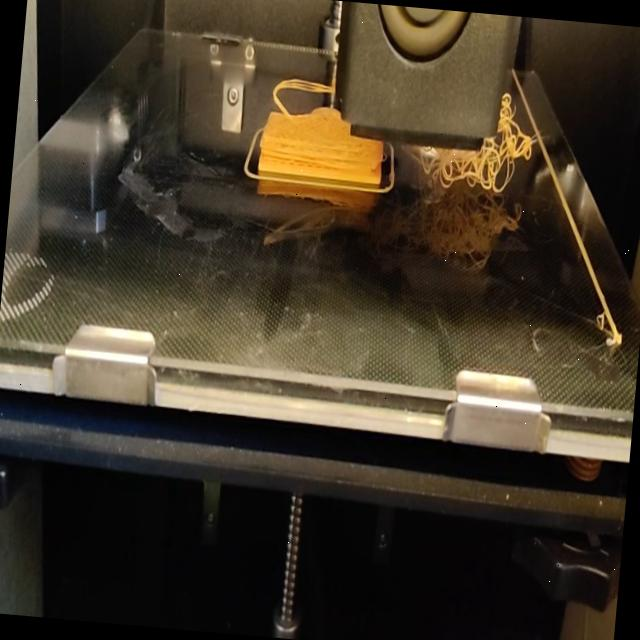spaghetti: (492, 90, 538, 204), (423, 142, 488, 196), (266, 72, 332, 110), (479, 134, 498, 198)
